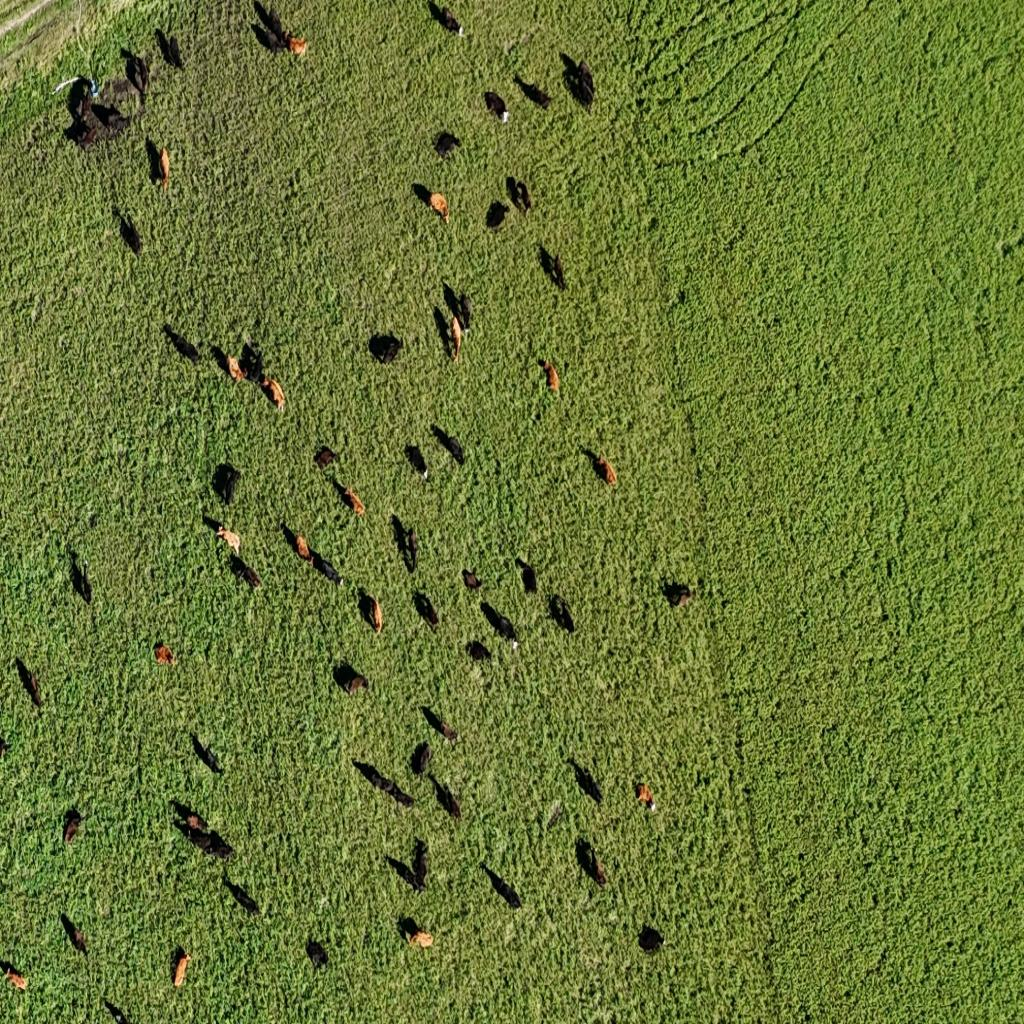cow: (224, 342, 287, 416), (180, 809, 234, 859), (64, 539, 92, 609), (562, 54, 596, 109), (436, 315, 474, 364), (484, 864, 522, 911), (353, 758, 387, 808), (328, 474, 370, 514), (480, 600, 518, 644), (416, 182, 452, 227), (578, 837, 608, 889), (422, 704, 460, 744), (573, 761, 605, 807), (391, 517, 417, 573), (339, 660, 376, 699), (164, 325, 201, 364), (433, 776, 463, 823), (16, 656, 42, 710), (124, 51, 150, 105), (224, 875, 258, 916), (433, 425, 465, 466), (60, 911, 88, 957), (284, 30, 317, 69), (213, 462, 242, 506), (384, 777, 417, 815), (64, 71, 90, 119), (192, 734, 223, 774), (156, 28, 185, 70), (516, 76, 552, 109), (150, 143, 177, 187), (266, 0, 294, 41), (369, 333, 404, 365), (414, 590, 440, 633), (232, 552, 262, 589), (241, 340, 265, 386), (359, 592, 382, 636), (507, 174, 531, 214), (550, 594, 574, 634), (412, 840, 430, 893), (120, 213, 142, 256), (459, 285, 479, 332), (663, 580, 694, 609), (261, 27, 284, 66), (315, 554, 343, 586), (484, 91, 510, 125), (403, 920, 434, 948), (405, 444, 429, 480), (1, 960, 28, 992), (62, 807, 84, 846), (172, 800, 202, 828), (437, 5, 463, 37), (171, 947, 190, 989), (411, 741, 432, 778), (518, 558, 538, 596), (638, 924, 665, 952), (485, 200, 509, 231), (306, 938, 329, 970), (435, 131, 461, 159), (216, 524, 240, 554), (595, 454, 617, 486), (103, 998, 130, 1023), (636, 783, 657, 813), (226, 354, 247, 384), (468, 640, 492, 666), (542, 360, 559, 394), (553, 253, 568, 291), (546, 800, 564, 831), (313, 447, 338, 469), (294, 532, 312, 562), (154, 642, 176, 666), (463, 569, 483, 591), (0, 732, 12, 760)
